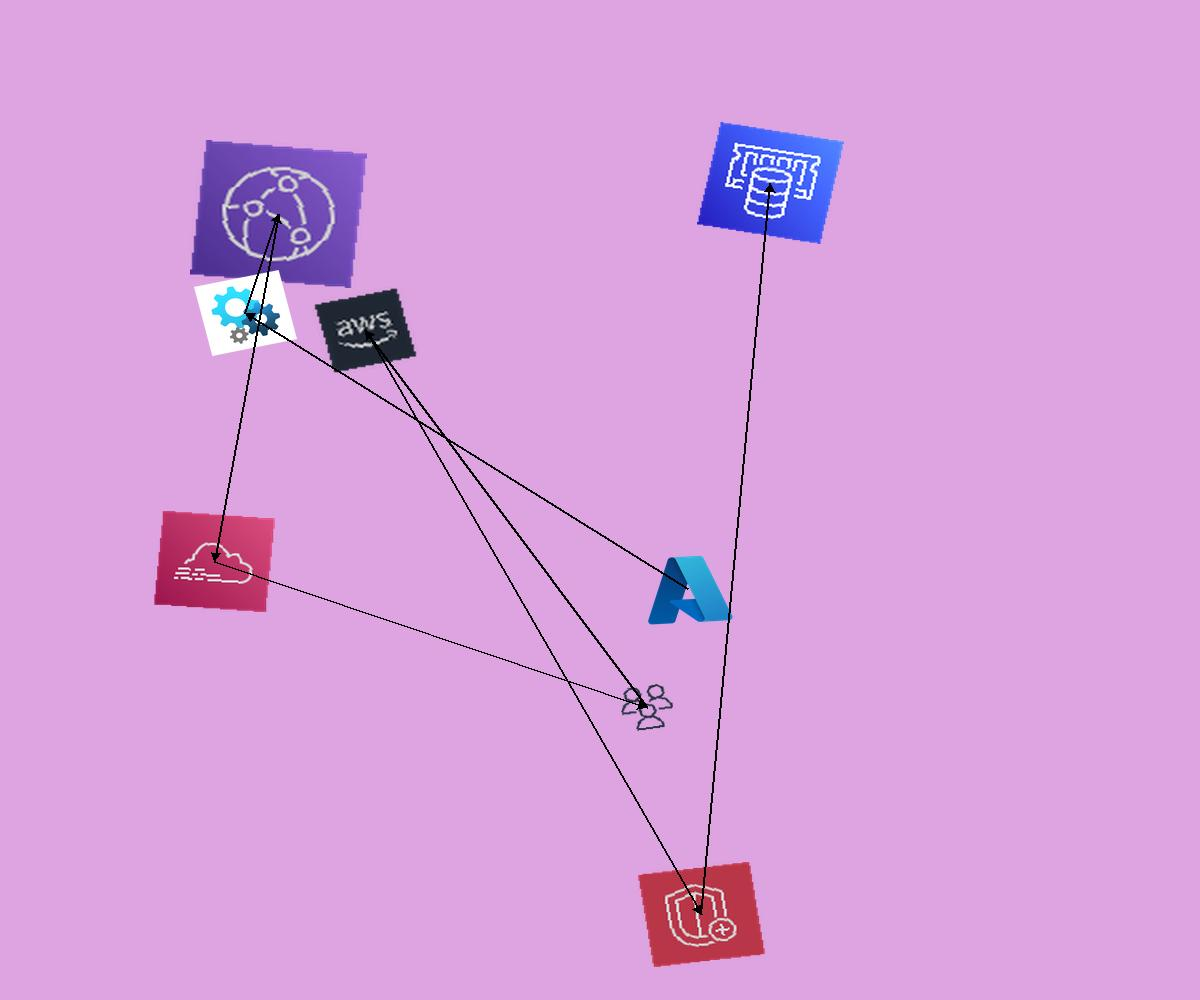AWS-Cloud-logo: (313, 287, 418, 374)
AWS-CloudFront: (190, 140, 367, 288)
AWS-CloudTrail: (153, 510, 276, 613)
AWS-ElastiCache: (697, 122, 844, 244)
AWS-Res_Users: (614, 680, 680, 735)
AWS-Shield: (637, 861, 766, 968)
Azure_api: (194, 270, 297, 356)
Azure_services: (639, 549, 737, 630)
